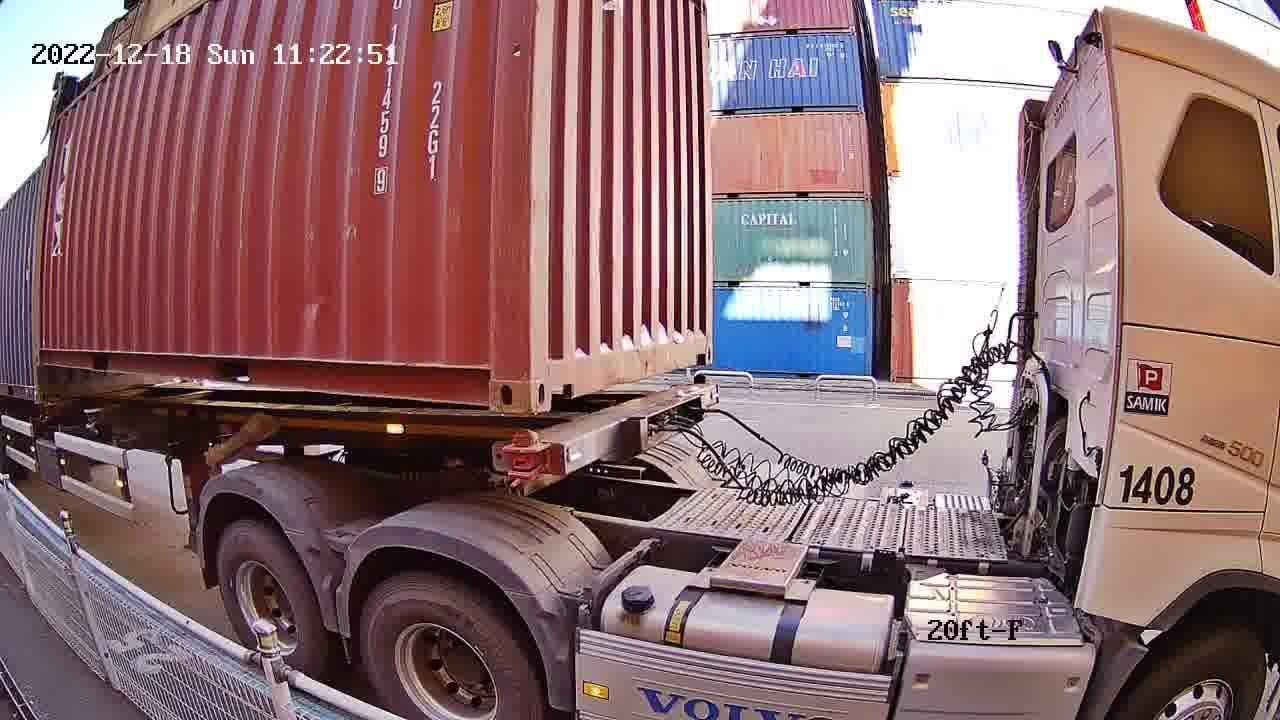Chassis: (532, 381, 720, 473)
Cone: (502, 432, 551, 483)
Hole_L: (530, 343, 579, 413)
Hole_R: (460, 347, 531, 413), (691, 323, 714, 365)
Tire: (358, 576, 536, 716), (216, 525, 322, 674)
